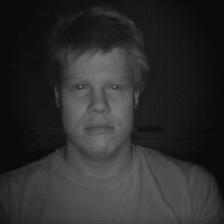sad: (43, 12, 154, 161)
